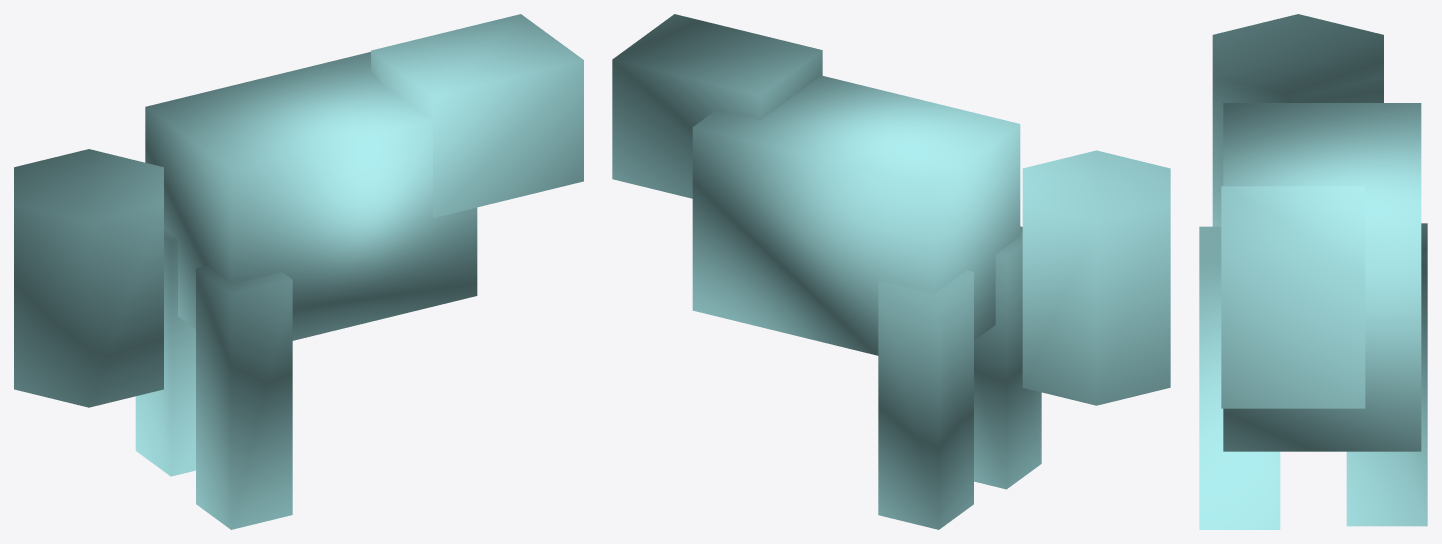
Rendered from ps2_jrpg_beast_enemy.obj.
3 views of the same model, side by side, from view 1: azimuth 30°, elevation 25°; view 2: azimuth 150°, elevation 25°; view 3: azimuth 270°, elevation 25° (orthographic). The views are drawn at different scales.
Bounding box in the file's own units: 1.57 × 1.05 × 0.5073.
